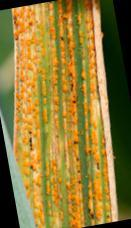Wheat: (17, 107, 106, 224), (15, 12, 96, 106)
